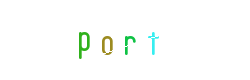O: (64, 0, 144, 80)
P: (58, 0, 138, 80)
R: (85, 0, 165, 80)
T: (112, 0, 192, 80)
